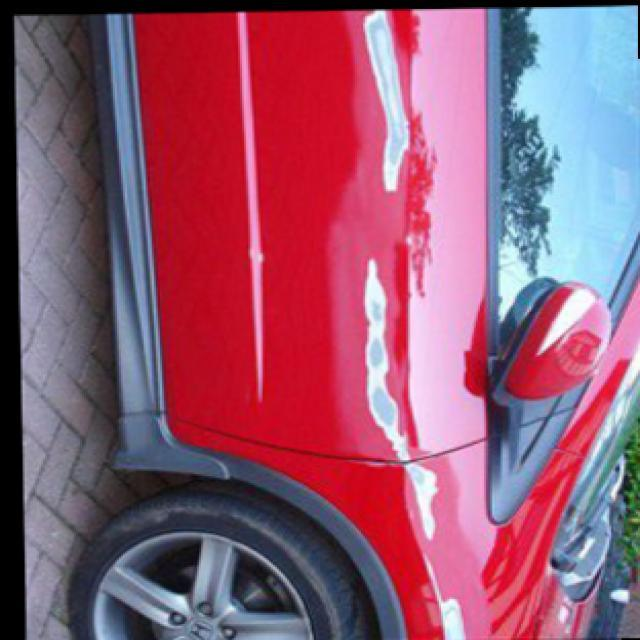scratch: (356, 249, 452, 543), (354, 12, 416, 185), (414, 552, 469, 640)
